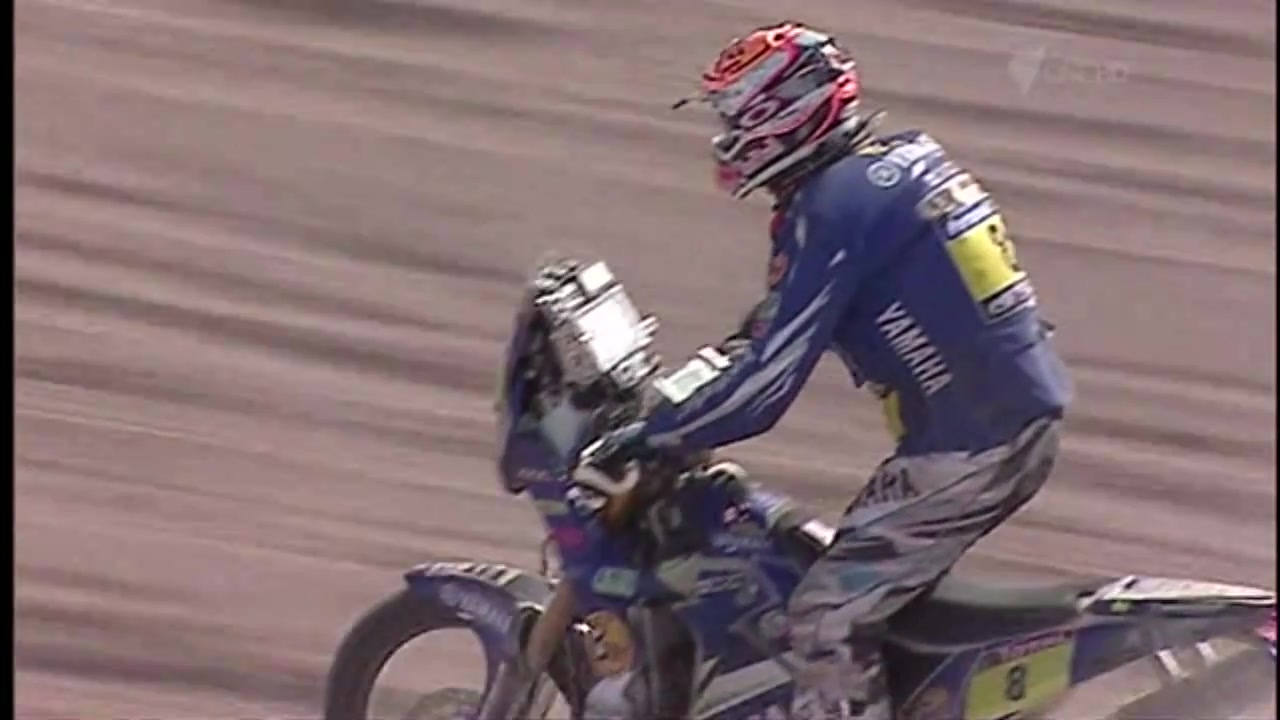motorbike: (319, 258, 1280, 720)
